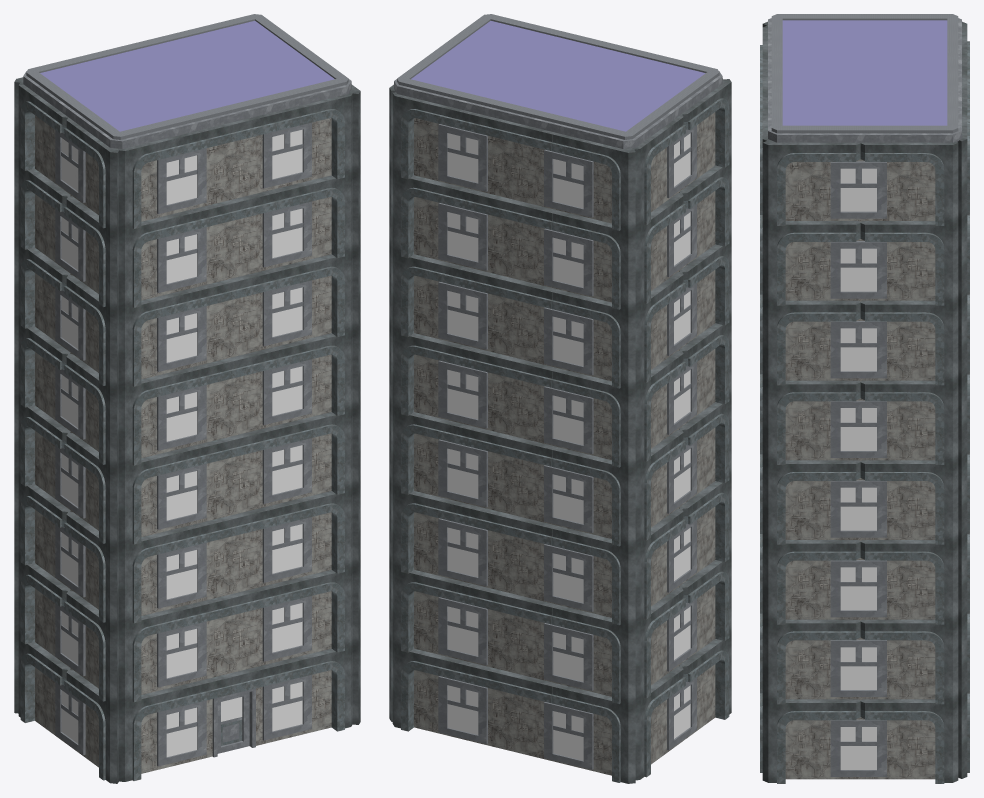
Rendered from City Building B.fbx.
3 views of the same model, side by side, from view 1: azimuth 30°, elevation 25°; view 2: azimuth 150°, elevation 25°; view 3: azimuth 270°, elevation 25° (orthographic).
Visible parts, largest first — view 1: mergedBlocks; view 2: mergedBlocks; view 3: mergedBlocks.
Part boxes in pixels (left/top/right/bottom): mergedBlocks: left=14, top=14, right=360, bottom=783; mergedBlocks: left=389, top=14, right=731, bottom=783; mergedBlocks: left=760, top=14, right=969, bottom=783.
Size of the model in its own units: 33.85 by 81.4 by 23.85.
8 materials, 6 textured.
